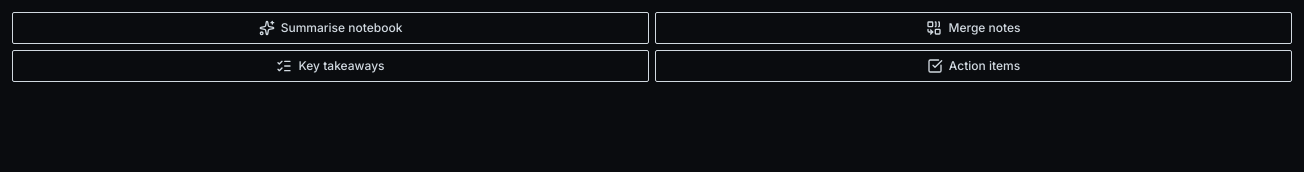
Test: NotebookSummaryPanel — key takeaways › honestly reports unavailable rather than fabricating a list
Step 1. Click the button with test id "notebook-summary-panel-takeaways-button" → (330, 66), box x1=12 y1=50 x2=649 y2=82
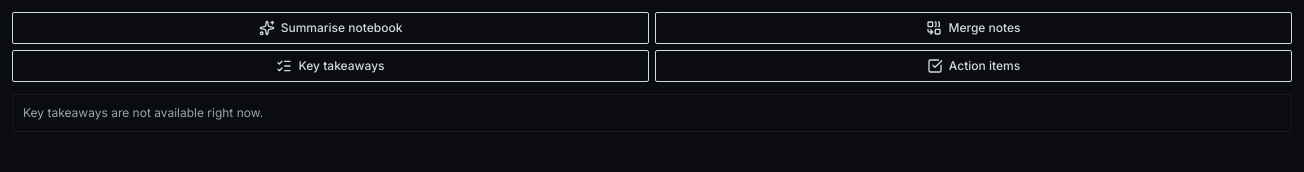
Result: the text "Key takeaways are not available right now." is shown at x1=23 y1=105 x2=263 y2=120
